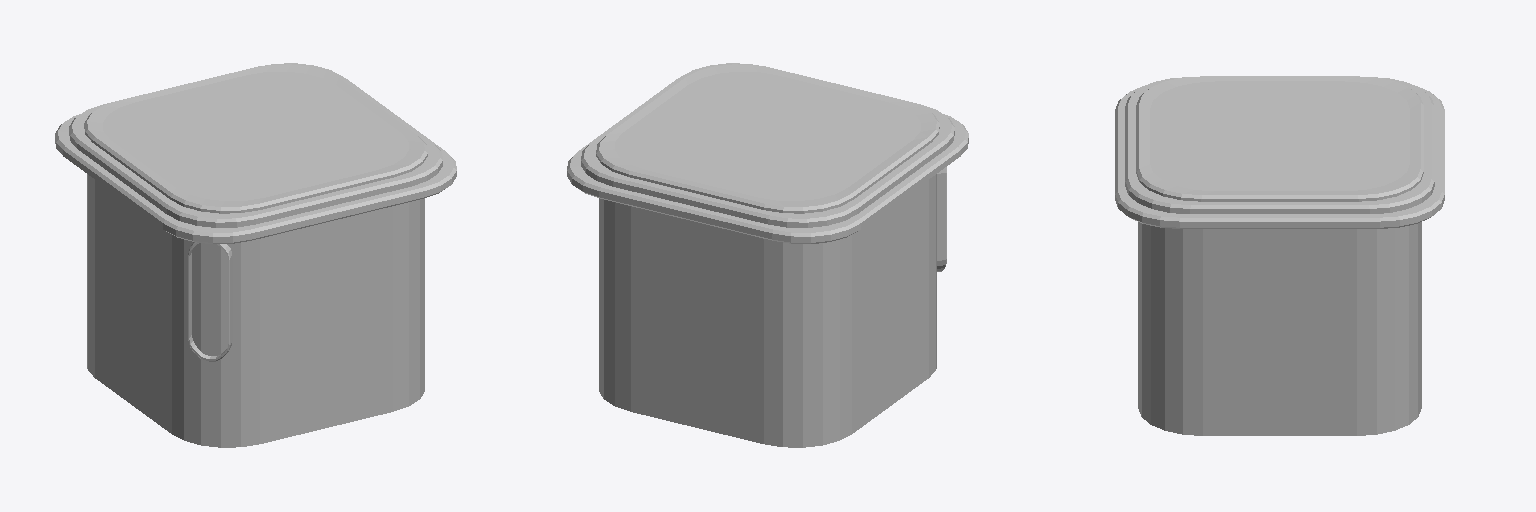
Rendered from Behind Bilboard Building.obj.
3 views of the same model, side by side, from view 1: azimuth 30°, elevation 25°; view 2: azimuth 150°, elevation 25°; view 3: azimuth 270°, elevation 25° (orthographic).
Parts seen in each view (by area): view 1: Building, Building Door; view 2: Building, Building Door; view 3: Building.
Part boxes in pixels (bbox=[...]): Building: bbox=[55, 63, 456, 447]; Building Door: bbox=[188, 242, 232, 361]; Building: bbox=[567, 63, 968, 447]; Building Door: bbox=[937, 167, 946, 271]; Building: bbox=[1115, 76, 1444, 435].
Bounding box in the file's own units: 14.22 × 11.44 × 14.22.